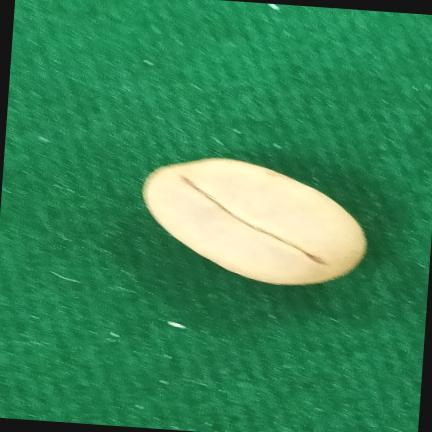parchment: (142, 158, 366, 285)
